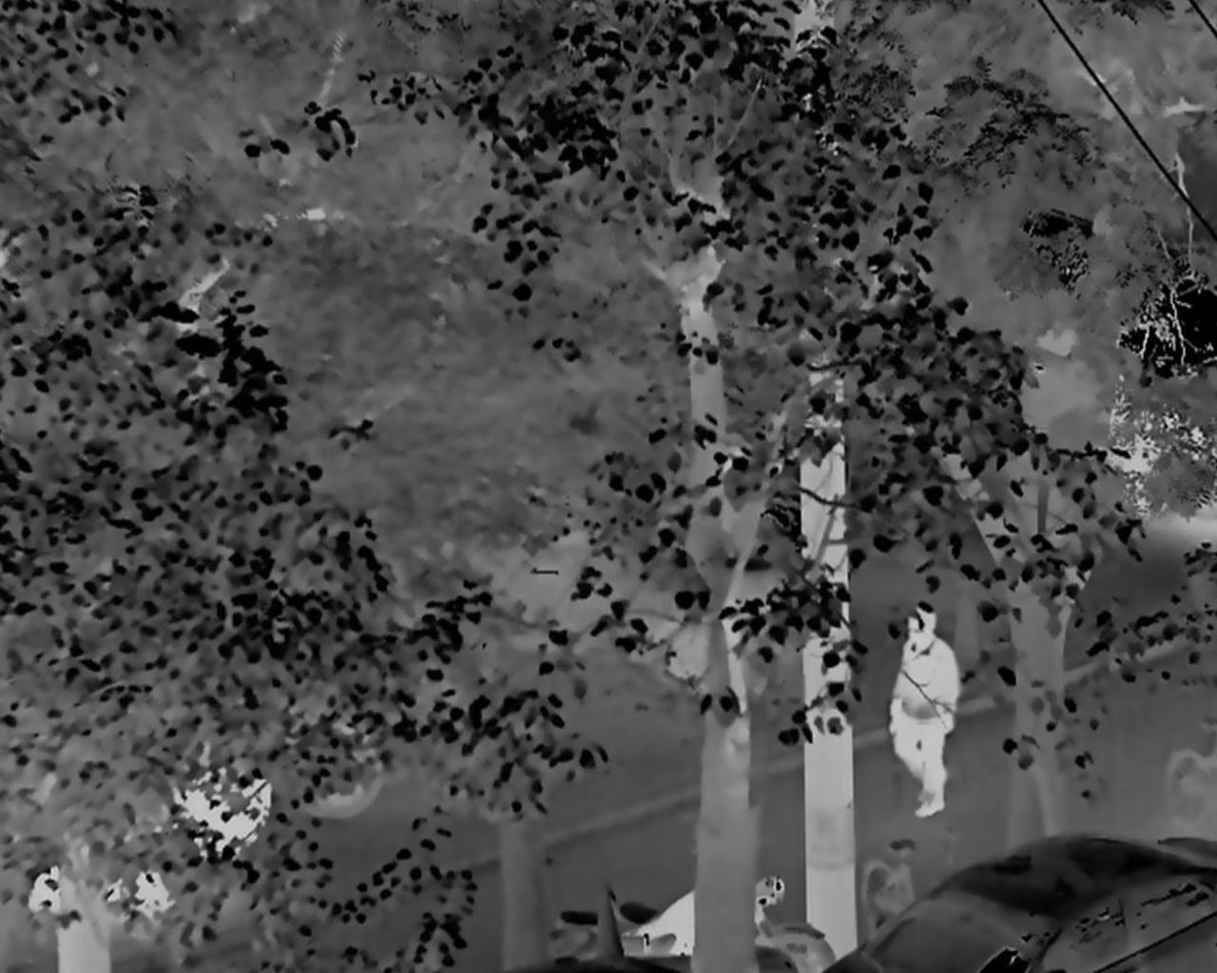person: (887, 601, 960, 817)
